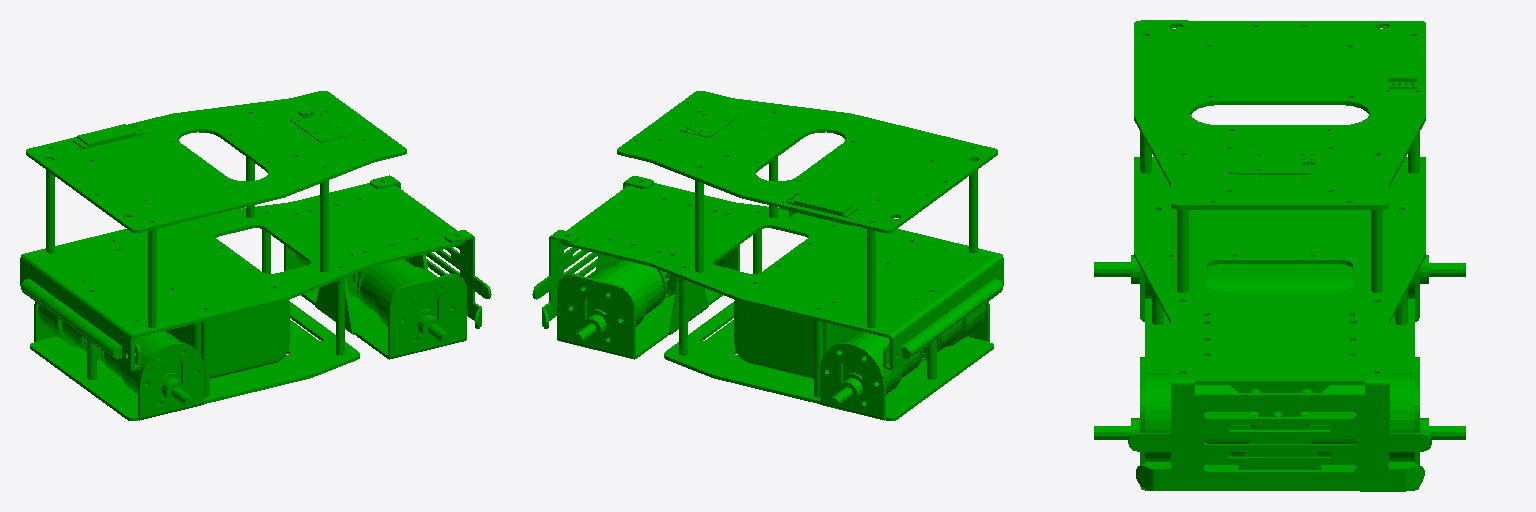
URDF robot description (robot):
<?xml version="1.0" encoding="utf-8"?>
<robot name="robot">

    <!--#########-->
    <!-- PLUGINS -->
    <!--#########-->
	<webots>

        <plugin type="rosmasterx3_sim.multi_robot_driver.MultiRobotDriver"/>

		<device reference="lidar" type="Lidar">
            <ros>
                <enabled>true</enabled>
                <updateRate>10</updateRate>
                <topicName>/scan</topicName>
                <alwaysOn>true</alwaysOn>
                <frameName>lidar</frameName>
            </ros>
        </device>

        <plugin type="webots_ros2_driver::Ros2IMU">
            <enabled>True</enabled>
            <topicName>/imu/data</topicName>
            <updateRate>10</updateRate>
            <alwaysOn>True</alwaysOn>
            <frameName>imu</frameName>
            <inertialUnitName>imu</inertialUnitName>
            <gyroName>gyro</gyroName>
            <accelerometerName>accelerometer</accelerometerName>
        </plugin>

        <device reference="camera" type="Camera">
            <ros>
                <enabled>true</enabled>
                <updateRate>10</updateRate>
                <topicName>/camera</topicName>
                <alwaysOn>true</alwaysOn>
                <frameName>optical_frame</frameName>
            </ros>
        </device>

        <device reference="range_finder" type="RangeFinder">
            <ros>
                <enabled>true</enabled>
                <updateRate>10</updateRate>
                <topicName>/range_finder</topicName>
                <alwaysOn>true</alwaysOn>
                <frameName>optical_frame</frameName>
            </ros>
        </device>

    </webots>

    <link name="base_footprint"/>

    <!-- Base Link -->
    <link name="base_link">
        <inertial>
            <origin xyz="0.00498197982182523 5.70233829969297E-05 -0.0121008098068578" rpy="0 0 0"/>
            <mass value="0.486218814966626"/>
            <inertia
                    ixx="0.00196277727666921"
                    ixy="2.50447049446755E-07"
                    ixz="0.000140534767811098"
                    iyy="0.00457256033711368"
                    iyz="2.68618064993882E-07"
                    izz="0.00493927269870476"/>
        </inertial>
        <visual>
            <origin xyz="0 0 0" rpy="0 0 0"/>
            <geometry>
                <mesh filename="package://rosmasterx3_sim/meshes/base_link_X3_mod.STL"/>
            </geometry>
            <material name="">
                <color rgba="0 0.7 0 1"/>
            </material>
        </visual>
        <collision>
            <origin xyz="0 0 0" rpy="0 0 0"/>
            <geometry>
                <mesh filename="package://rosmasterx3_sim/meshes/base_link_X3_mod.STL"/>
            </geometry>
        </collision>
    </link>
    <joint name="base_joint" type="fixed">
        <parent link="base_footprint"/>
        <child link="base_link"/>
        <origin xyz="0.0 0.0 0.0815" rpy="0 0 0"/>
    </joint>

    <!-- IMU -->
    <link name="imu"/>
    <joint name="base_imu" type="fixed">
        <parent link="base_link"/>
        <child link="imu"/>
        <origin xyz="-0.06 0.01 0.01" rpy="0 3.1415 1.5707"/>
    </joint>

    <!-- Wheels -->
    <link name="front_right_wheel">
        <inertial>
            <origin xyz="1.9051E-06 -2.3183E-07 -0.00064079" rpy="0 0 0"/>
            <mass value="0.051532"/>
            <inertia ixx="1.4595E-05" ixy="-4.3975E-10" ixz="4.415E-10"
                     iyy="1.4594E-05" iyz="-1.7476E-09" izz="2.4264E-05"/>
        </inertial>
        <visual>
            <origin xyz="0 0 0" rpy="0 0 0"/>
            <geometry>
                <mesh filename="package://rosmasterx3_sim/meshes/front_right_wheel_X3.STL"/>
            </geometry>
            <material name="">
                <color rgba="0 0 0 1"/>
            </material>
        </visual>
        <collision>
            <origin xyz="0 0 0" rpy="0 0 0"/>
            <geometry>
                <mesh filename="package://rosmasterx3_sim/meshes/front_right_wheel_X3.STL"/>
            </geometry>
        </collision>
    </link>
    <joint name="front_right_joint" type="continuous">
        <origin xyz="0.08 -0.0845 -0.0389" rpy="-1.5703 0 3.14159"/>
        <parent link="base_link"/>
        <child link="front_right_wheel"/>
        <axis xyz="0 0 1" rpy="0 0 0"/>
        <limit effort="100" velocity="1"/>
    </joint>

    <link name="front_left_wheel">
        <inertial>
            <origin xyz="2.3728E-06 -9.4228E-07 0.00064068" rpy="0 0 0"/>
            <mass value="0.051543"/>
            <inertia ixx="1.4597E-05" ixy="-4.7945E-10" ixz="-2.4786E-10"
                     iyy="1.4598E-05" iyz="1.7972E-09" izz="2.4267E-05"/>
        </inertial>
        <visual>
            <origin xyz="0 0 0" rpy="0 0 0"/>
            <geometry>
                <mesh filename="package://rosmasterx3_sim/meshes/front_left_wheel_X3.STL"/>
            </geometry>
            <material name="">
                <color rgba="0 0 0 1"/>
            </material>
        </visual>
        <collision>
            <origin xyz="0 0 0" rpy="0 0 0"/>
            <geometry>
                <mesh filename="package://rosmasterx3_sim/meshes/front_left_wheel_X3.STL"/>
            </geometry>
        </collision>
    </link>
    <joint name="front_left_joint" type="continuous">
        <origin xyz="0.08 0.084492 -0.0389" rpy="1.5703 0 0"/>
        <parent link="base_link"/>
        <child link="front_left_wheel"/>
        <axis xyz="0 0 1" rpy="0 0 0"/>
        <limit effort="100" velocity="1"/>
    </joint>

    <link name="back_right_wheel">
        <inertial>
            <origin xyz="-1.75924169923403E-06 1.28388821071107E-06 -0.000590549296238266" rpy="0 0 0"/>
            <mass value="0.051540174053366"/>
            <inertia ixx="1.45974152250002E-05" ixy="1.94850559178397E-10" ixz="-1.61846387282284E-09"
                     iyy="1.4596501955693E-05" iyz="-6.27904057423818E-10" izz="2.42663091380451E-05"/>
        </inertial>
        <visual>
            <origin xyz="0 0 0" rpy="0 0 0"/>
            <geometry>
                <mesh filename="package://rosmasterx3_sim/meshes/back_right_wheel_X3.STL"/>
            </geometry>
            <material name="">
                <color rgba="0 0 0 1"/>
            </material>
        </visual>
        <collision>
            <origin xyz="0 0 0" rpy="0 0 0"/>
            <geometry>
                <mesh filename="package://rosmasterx3_sim/meshes/back_right_wheel_X3.STL"/>
            </geometry>
        </collision>
    </link>
    <joint name="back_right_joint" type="continuous">
        <origin xyz="-0.08 -0.0845 -0.03946" rpy="-1.57 0 3.14159"/>
        <parent link="base_link"/>
        <child link="back_right_wheel"/>
        <axis xyz="0 0 1" rpy="0 0 0"/>
        <limit effort="100" velocity="1"/>
    </joint>

    <link name="back_left_wheel">
        <inertial>
            <origin xyz="-4.01213085227115E-07 2.04910264598596E-06 0.000590775697051377" rpy="0 0 0"/>
            <mass value="0.0515309299357028"/>
            <inertia ixx="1.45942986129926E-05" ixy="-3.19787215398093E-10" ixz="1.74943062058915E-09"
                     iyy="1.45948727598913E-05" iyz="1.61769812110049E-10" izz="2.4263683888153E-05"/>
        </inertial>
        <visual>
            <origin xyz="0 0 0" rpy="0 0 0"/>
            <geometry>
                <mesh filename="package://rosmasterx3_sim/meshes/back_left_wheel_X3.STL"/>
            </geometry>
            <material name="">
                <color rgba="0 0 0 1"/>
            </material>
        </visual>
        <collision>
            <origin xyz="0 0 0" rpy="0 0 0"/>
            <geometry>
                <mesh filename="package://rosmasterx3_sim/meshes/back_left_wheel_X3.STL"/>
            </geometry>
        </collision>
    </link>
    <joint name="back_left_joint" type="continuous">
        <origin xyz="-0.08 0.084492 -0.03954" rpy="1.5703 0 0"/>
        <parent link="base_link"/>
        <child link="back_left_wheel"/>
        <axis xyz="0 0 1" rpy="0 0 0"/>
        <limit effort="100" velocity="1"/>
    </joint>

    <link name="lidar">
        <inertial>
            <origin xyz="-0.0176558922685589 0.000671805271544437 0.0219302095894866" rpy="0 0 0" />
            <mass value="0.0483909504209895" />
            <inertia ixx="1.58456966399128E-05" ixy="-4.23913983850005E-07" ixz="-2.09597897904374E-07"
                     iyy="3.89262522903605E-05" iyz="3.24809725932687E-07" izz="4.86230801106223E-05" />
        </inertial>
        <visual>
            <origin xyz="0 0 0" rpy="0 0 0"/>
            <geometry>
                <mesh filename="package://rosmasterx3_sim/meshes/laser_link.STL"/>
            </geometry>
            <material name="">
                <color rgba="0 0 0 1"/>
            </material>
        </visual>
        <collision>
            <origin xyz="0 0 0" rpy="0 0 0"/>
            <geometry>
                <mesh filename="package://rosmasterx3_sim/meshes/laser_link.STL"/>
            </geometry>
        </collision>
    </link>
    <joint name="lidar_joint" type="fixed">
        <origin xyz="0.0435 5.25826986680105E-05 0.11" rpy="0 0 0"/>
        <parent link="base_link"/>
        <child link="lidar"/>
    </joint>
    
    <link name="camera">
        <inertial>
            <origin xyz="0 0 0" rpy="0 0 0"/>
            <mass value="0"/>
            <inertia ixx="0" ixy="0" ixz="0" iyy="0" iyz="0" izz="0"/>
        </inertial>
        <visual>
            <origin xyz="0 0 0" rpy="0 0 0"/>
            <geometry>
                <mesh filename="package://rosmasterx3_sim/meshes/camera_link.STL"/>
            </geometry>
            <material name="">
                <color rgba="0 0 0 1"/>
            </material>
        </visual>
        <collision>
            <origin xyz="0 0 0" rpy="0 0 0"/>
            <geometry>
                <mesh filename="package://rosmasterx3_sim/meshes/camera_link.STL"/>
            </geometry>
        </collision>
    </link>
    <joint name="camera_joint" type="fixed">
        <origin xyz="0.057105 1.7948E-05 0.03755" rpy="0 0 0"/>
        <parent link="base_link"/>
        <child link="camera"/>
    </joint>
</robot>

--- What the picture shows (computed from the rendered views, not written in the file) ---
3 views of the same robot in one strip: view 1: azimuth 30°, elevation 25°; view 2: azimuth 150°, elevation 25°; view 3: azimuth 270°, elevation 25° (orthographic).
Model robot with 9 links and 8 joints (4 continuous, 4 fixed), rooted at base_footprint, posed all joints at 0.
Links seen in each view (by area): view 1: base_link; view 2: base_link; view 3: base_link.
Link boxes in pixels (box(x1,y1,x2,y2)): base_link: box(20, 91, 491, 420); base_link: box(532, 91, 1003, 420); base_link: box(1094, 20, 1465, 491).
Size in the robot's own frame: 0.2292 by 0.153 by 0.1237 metres.
Meshes: 7 distinct files referenced, 1 mesh visuals loaded (1 binary STL); not drawn: 6 (reference not matched to a file when rendering).